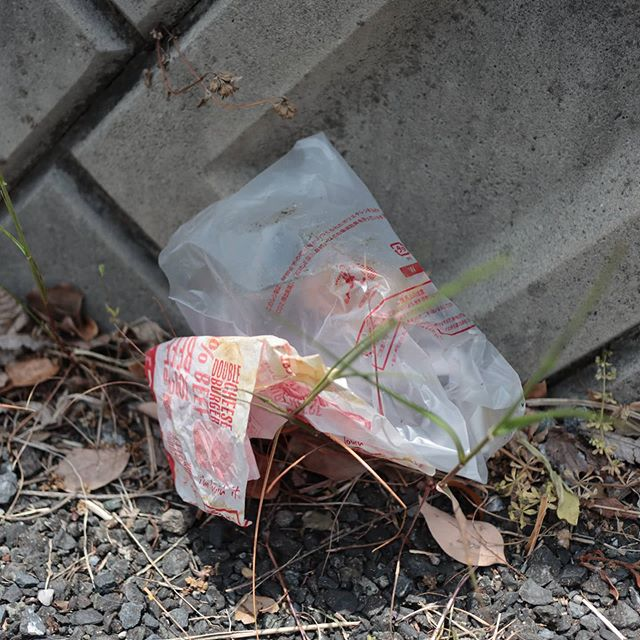trash: (74, 123, 585, 619)
